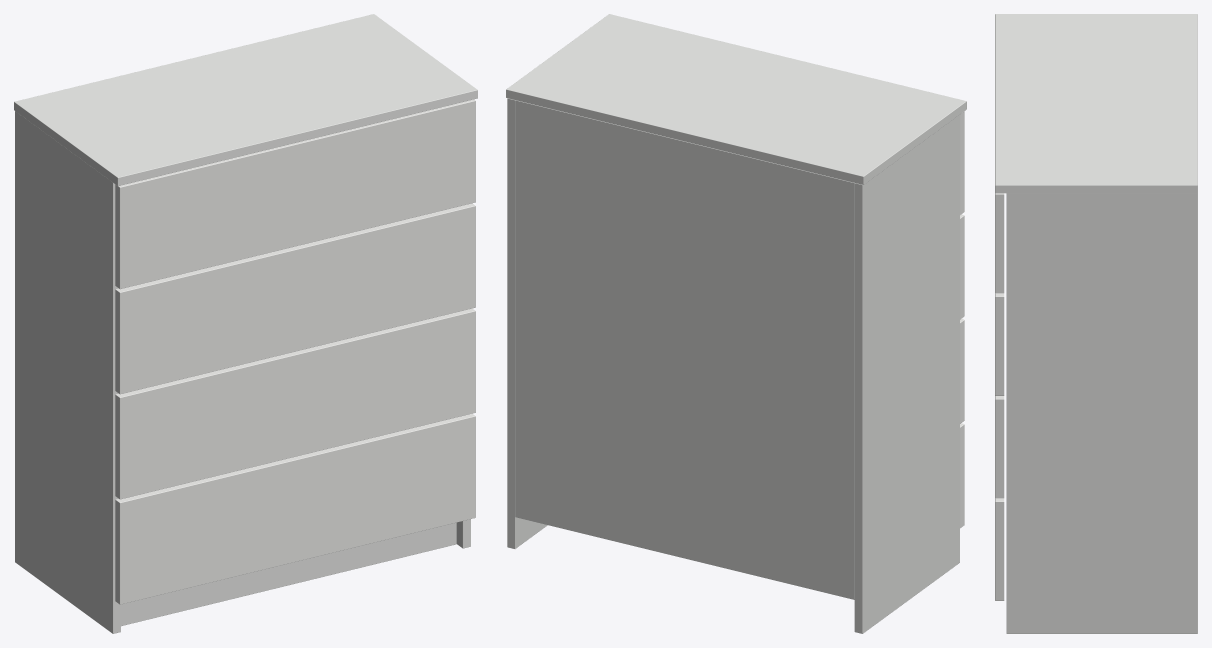
The model's file is dresser-10-white-four-drawer.glb.
The picture shows the model from 3 angles, left to right: view 1: azimuth 30°, elevation 25°; view 2: azimuth 150°, elevation 25°; view 3: azimuth 270°, elevation 25°; orthographic projection. The views are drawn at different scales.
Parts seen in each view (by area): view 1: Panel_Side_Left_Tile_ccc, Panel_Top_Tile_ccc, Drawer_01_Front_Core_Tile_ccc, Drawer_04_Front_Core_Tile_ccc, Drawer_03_Front_Core_Tile_ccc, Drawer_02_Front_Core_Tile_ccc, Plinth_Front_Tile_ccc, Panel_Top_Tile_ccp, Panel_Side_Left_Tile_ccp, Drawer_03_Front_Core_Tile_cpc, Drawer_02_Front_Core_Tile_cpc, Drawer_01_Front_Core_Tile_cpc (+2 smaller); view 2: Panel_Back_Tile_ccc, Panel_Side_Left_Tile_ccc, Panel_Top_Tile_ccc, Panel_Side_Left_Tile_ccm, Panel_Side_Right_Tile_ccm, Panel_Top_Tile_ccm, Panel_Top_Tile_mcc; view 3: Panel_Side_Right_Tile_ccc, Panel_Top_Tile_ccc, Panel_Top_Tile_pcc, Drawer_02_Front_Core_Tile_pcc, Drawer_04_Front_Core_Tile_pcc, Drawer_01_Front_Core_Tile_pcc, Drawer_03_Front_Core_Tile_pcc, Panel_Side_Right_Tile_ccp, Panel_Side_Right_Tile_ccm.
Boxes of the visible parts, box(x1,y1,x2,y2) form: Panel_Side_Left_Tile_ccc: box(15, 111, 112, 633); Panel_Top_Tile_ccc: box(15, 14, 477, 177); Drawer_01_Front_Core_Tile_ccc: box(120, 416, 475, 604); Drawer_04_Front_Core_Tile_ccc: box(120, 101, 475, 288); Drawer_03_Front_Core_Tile_ccc: box(120, 206, 475, 393); Drawer_02_Front_Core_Tile_ccc: box(120, 311, 475, 499); Plinth_Front_Tile_ccc: box(121, 522, 456, 625); Panel_Top_Tile_ccp: box(118, 90, 477, 185); Panel_Side_Left_Tile_ccp: box(112, 183, 120, 633); Drawer_03_Front_Core_Tile_cpc: box(116, 203, 475, 292); Drawer_02_Front_Core_Tile_cpc: box(116, 308, 475, 397); Drawer_01_Front_Core_Tile_cpc: box(116, 413, 475, 502); Panel_Back_Tile_ccc: box(515, 101, 854, 599); Panel_Side_Left_Tile_ccc: box(863, 115, 959, 633); Panel_Top_Tile_ccc: box(507, 14, 965, 176); Panel_Side_Left_Tile_ccm: box(854, 183, 862, 633); Panel_Side_Right_Tile_ccm: box(507, 98, 515, 548); Panel_Top_Tile_ccm: box(506, 89, 863, 184); Panel_Top_Tile_mcc: box(864, 101, 966, 184); Panel_Side_Right_Tile_ccc: box(1007, 193, 1197, 633); Panel_Top_Tile_ccc: box(995, 14, 1197, 184); Panel_Top_Tile_pcc: box(995, 185, 1197, 193); Drawer_02_Front_Core_Tile_pcc: box(995, 399, 1004, 498); Drawer_04_Front_Core_Tile_pcc: box(995, 194, 1004, 293); Drawer_01_Front_Core_Tile_pcc: box(995, 502, 1004, 600); Drawer_03_Front_Core_Tile_pcc: box(995, 297, 1004, 395); Panel_Side_Right_Tile_ccp: box(1006, 193, 1006, 633); Panel_Side_Right_Tile_ccm: box(1197, 193, 1197, 633).
Size of the model in its own units: 0.7 by 0.856 by 0.35.
Materials: 190 (189 with a texture image).
